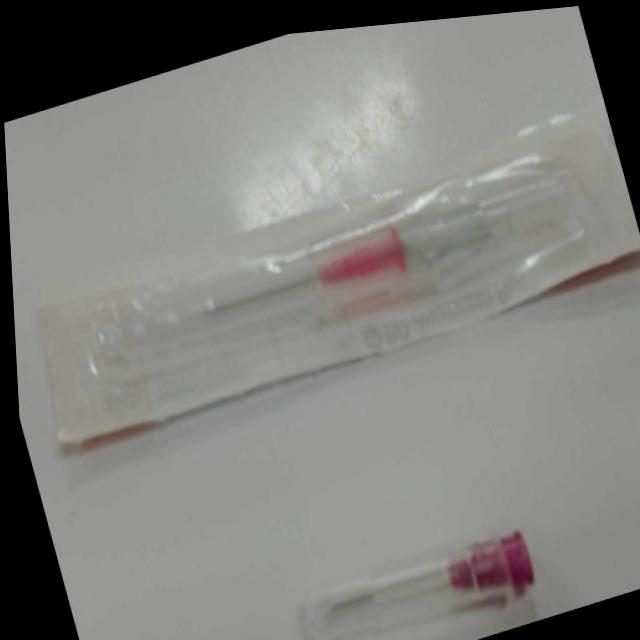General: (4, 2, 639, 637)
Infectious: (42, 147, 594, 455)
Sharps: (302, 529, 537, 638)
